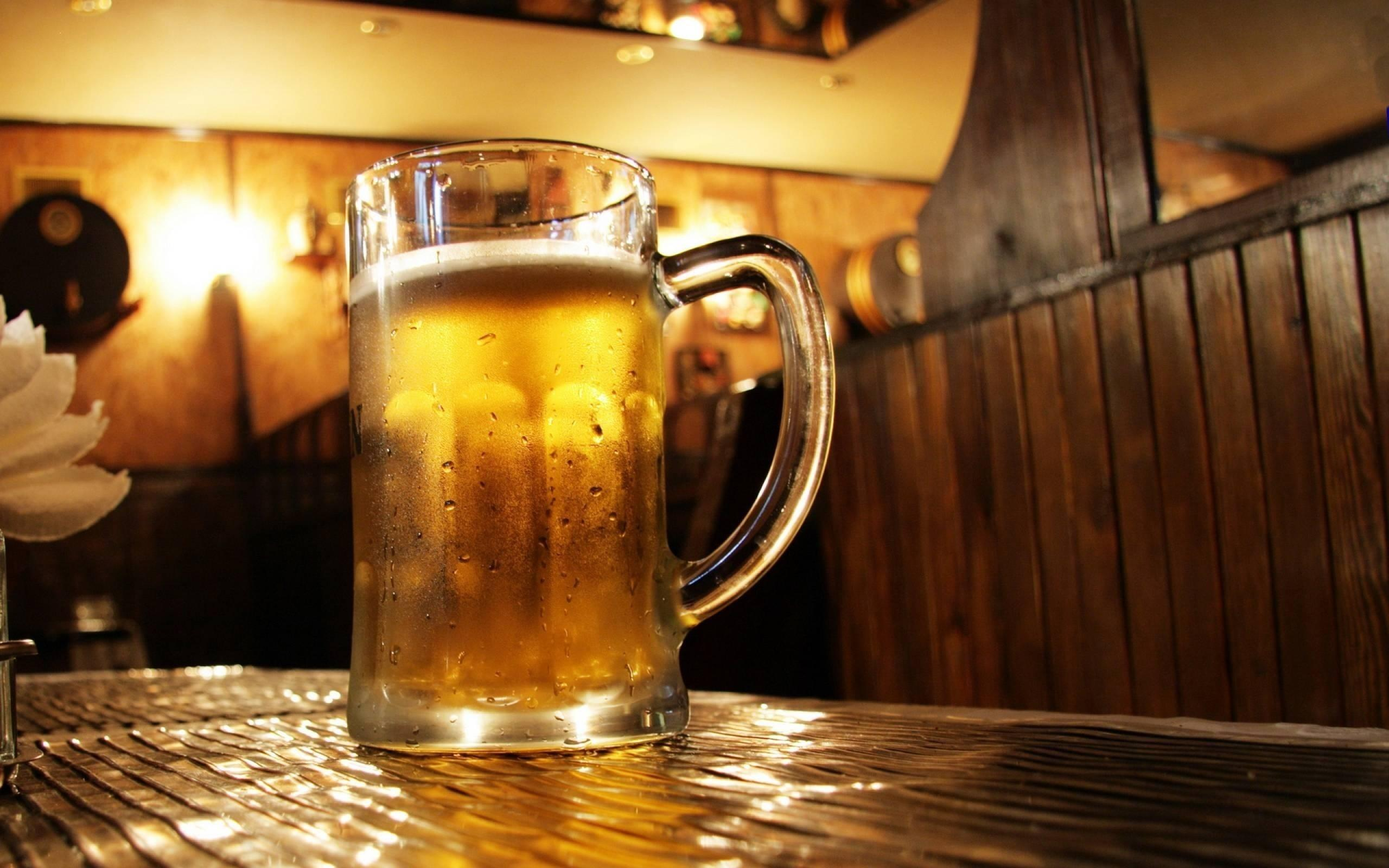glass-mug: (332, 130, 839, 767)
